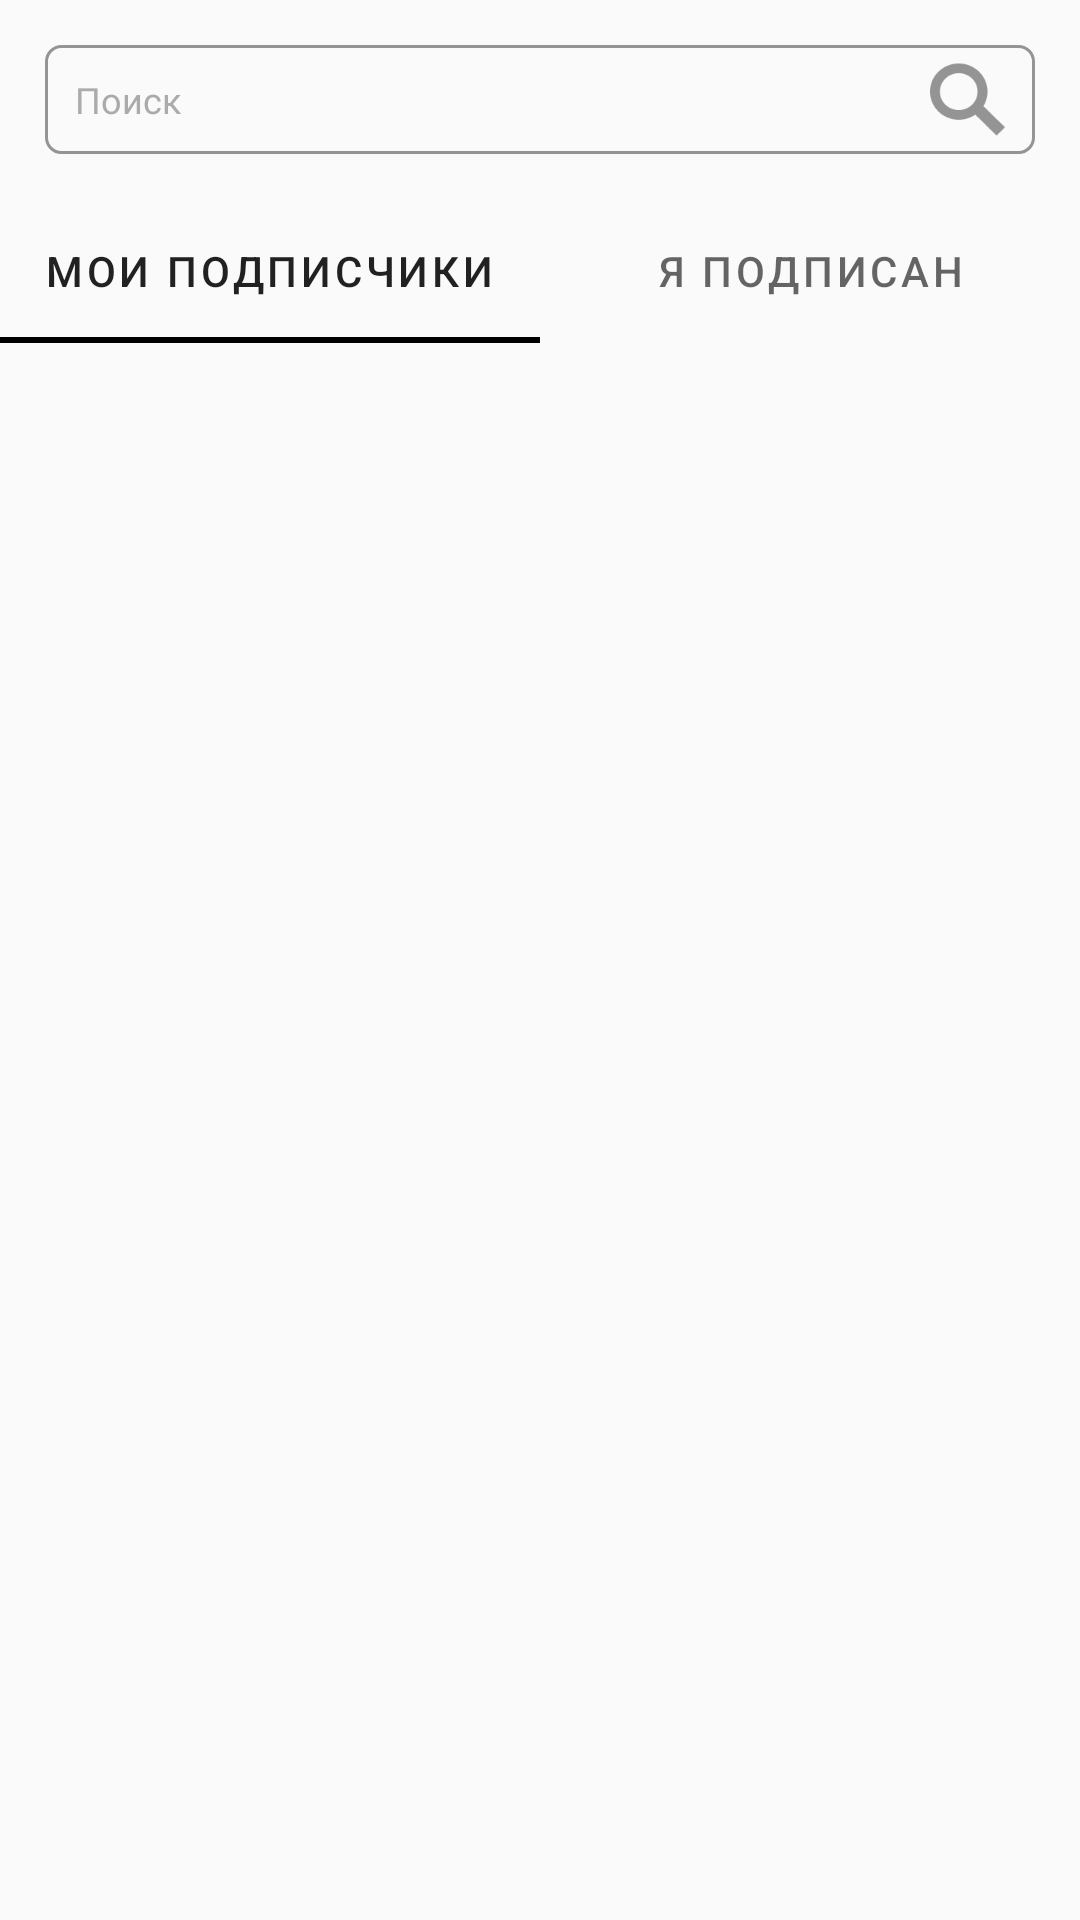

Icons on this 1080px x 1920px Android screen, each with the point to tap as point (x, y):
searching: point (967, 99)
